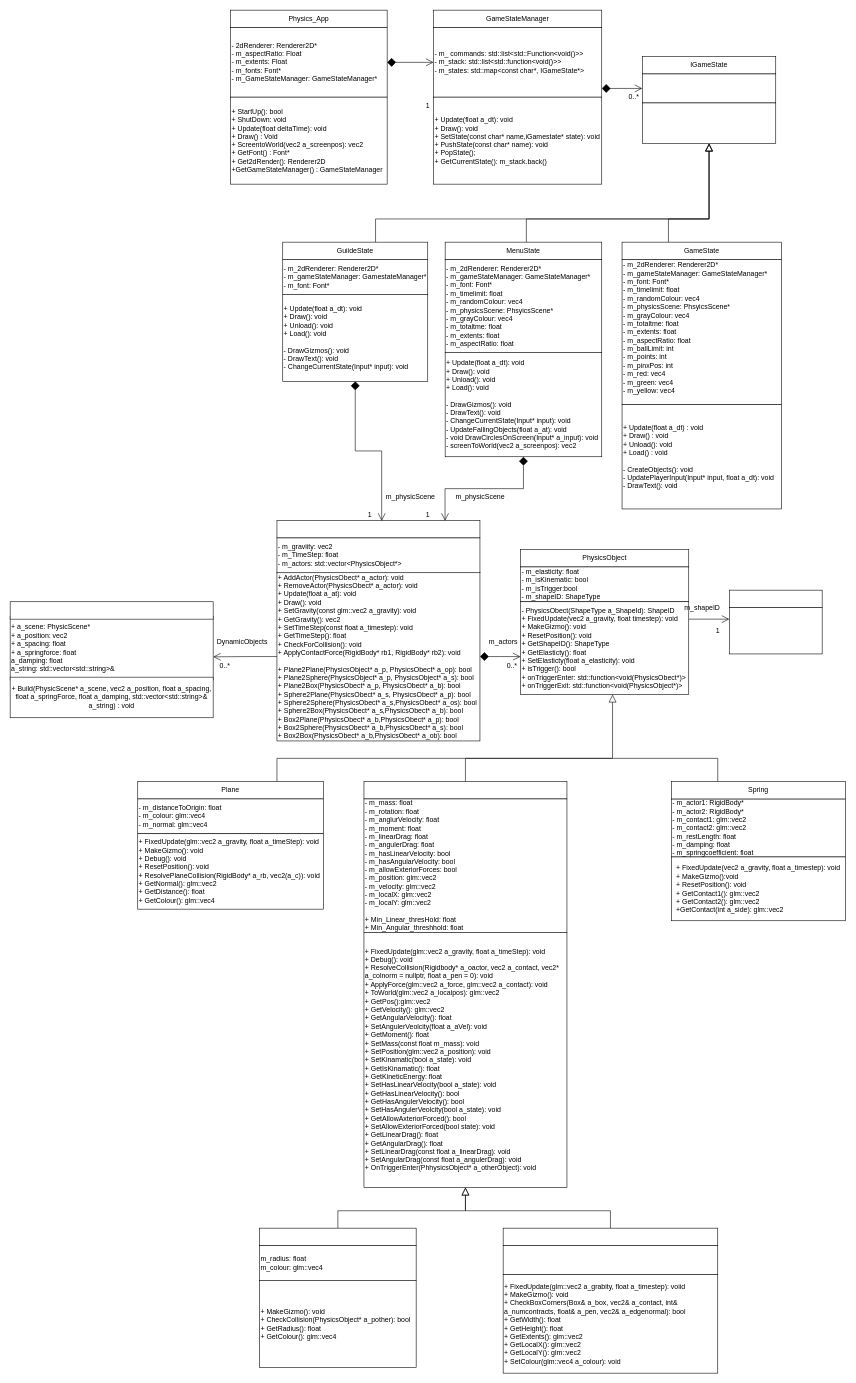
Some shapes in this 856 by 1383 pixel diagram are drawn without their labels. The shapes that lost their labels are listed below. From the top down, each one's centre as x and y in pixels, then its label:
At point (709, 88): "none".
At point (709, 123): "+ Load() : void + Unload(): void + Update(float a_dt): void + Draw(): void".
At point (378, 529): "PhysicsScene".
At point (111, 610): "SoftBodies".
At point (775, 599): "<<Enumeration>> ShapeType".
At point (775, 630): "Joint Plane Sphere Box ShapeCount".
At point (465, 790): "RigidBody".
At point (337, 1237): "Sphere".
At point (610, 1237): "Box".
At point (610, 1260): "m_extents: glm::vec2 m_colour: glm::vec4".
